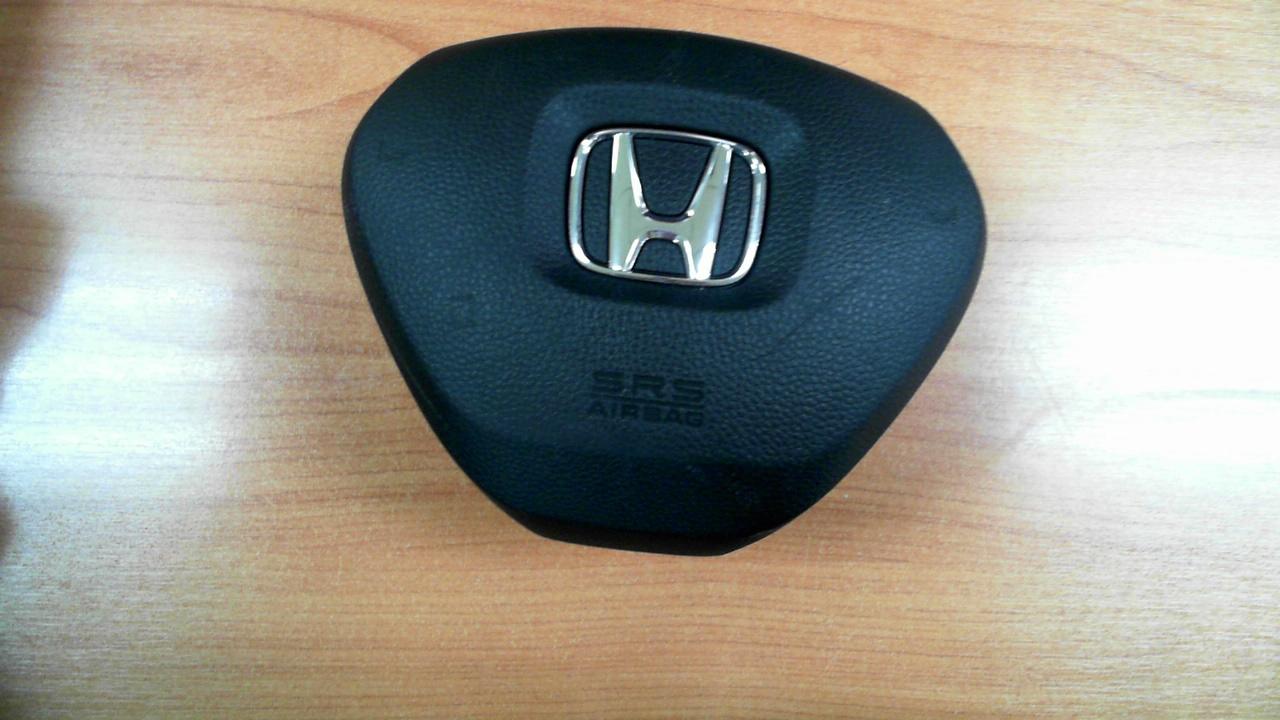Airbag: (341, 25, 988, 558)
Honda: (567, 127, 768, 287)
